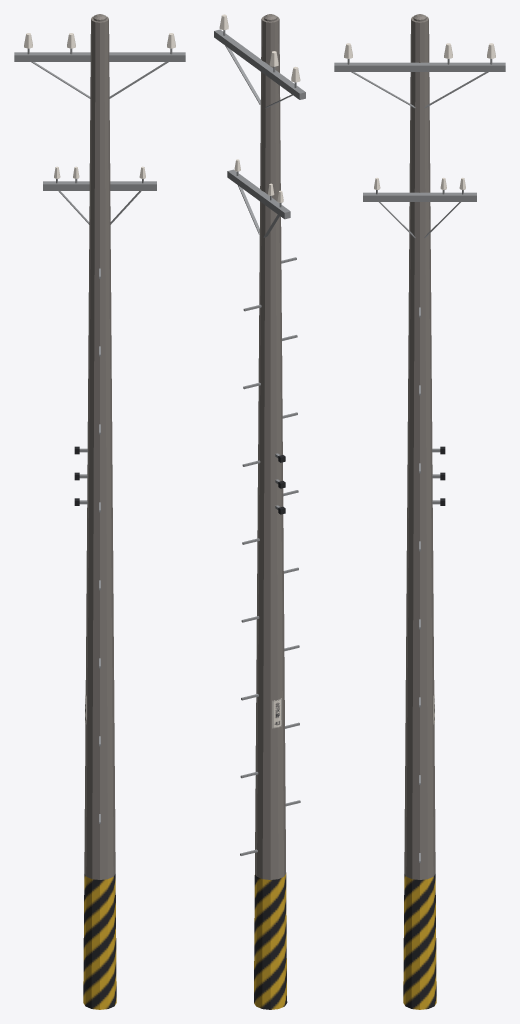
File: SM_Street_Pole_Plain_01.fbx
The picture shows the model from 3 angles, left to right: view 1: azimuth 90°, elevation 25°; view 2: azimuth 210°, elevation 25°; view 3: azimuth 270°, elevation 25°; orthographic projection.
Visible parts, largest first — view 1: SM_Street_Pole_Plain_01; view 2: SM_Street_Pole_Plain_01; view 3: SM_Street_Pole_Plain_01.
Boxes of the visible parts, x1,y1,x2,y2 form: SM_Street_Pole_Plain_01: [14, 14, 185, 1009]; SM_Street_Pole_Plain_01: [214, 14, 305, 1009]; SM_Street_Pole_Plain_01: [334, 14, 505, 1009].
Bounding box in the file's own units: 0.7216 × 11.44 × 1.8.
Materials: 1 (1 with a texture image).
